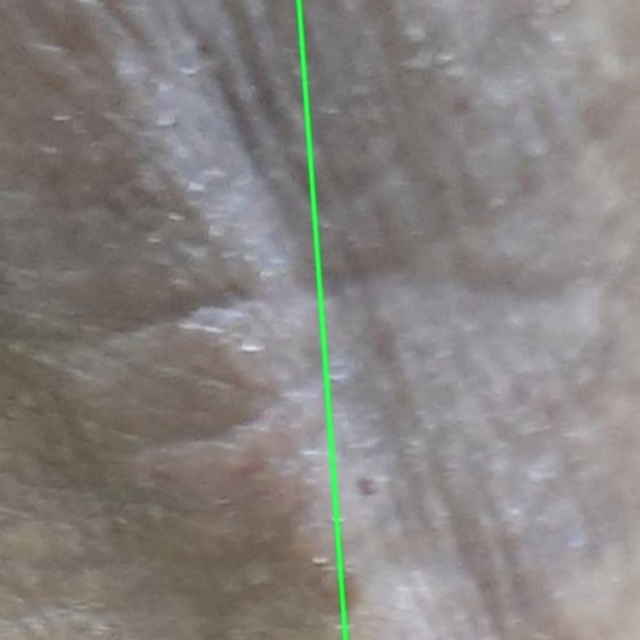Tinea Corporis: (0, 0, 345, 639)
